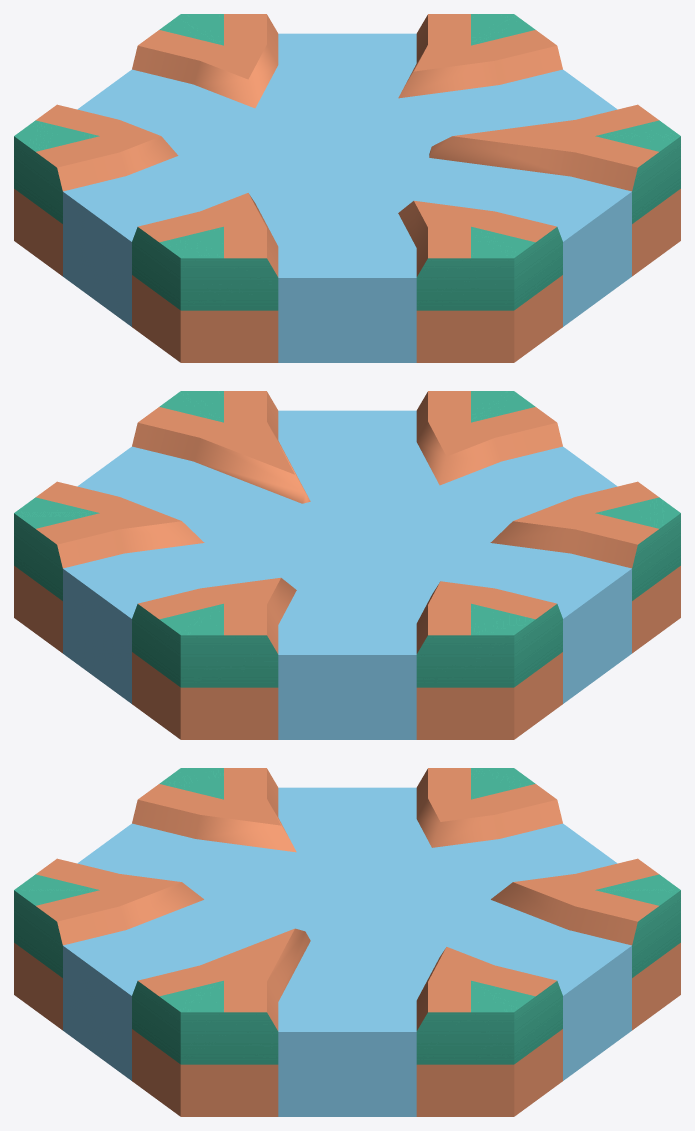
The model's file is river-crossing.glb.
The picture shows the model from 3 angles, top to bottom: view 1: azimuth 30°, elevation 25°; view 2: azimuth 150°, elevation 25°; view 3: azimuth 270°, elevation 25°; orthographic projection.
Parts seen in each view (by area): view 1: river-crossing; view 2: river-crossing; view 3: river-crossing.
Part boxes in pixels (x1,y1,x2,y2): river-crossing: [14, 14, 680, 362]; river-crossing: [14, 391, 680, 739]; river-crossing: [14, 768, 680, 1116].
Size of the model in its own units: 10 by 2 by 11.55.
1 material, 1 textured.
